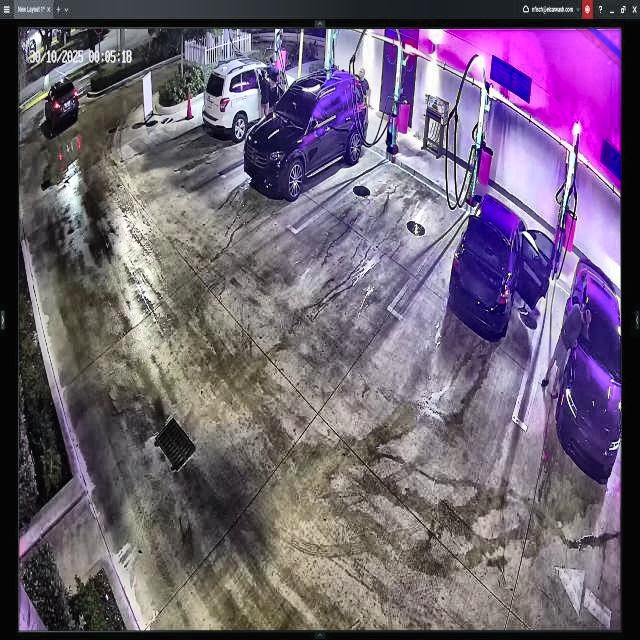Car: (243, 66, 369, 196), (448, 191, 554, 339)
